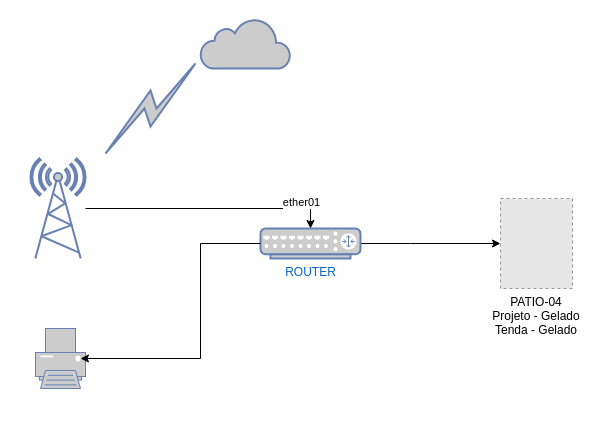
The diagram is 598 pixels wide and 441 high, and some of its shapes have lost their labels. Grey dashed boxes stand in for pictures. Here are the shapes that lost their labels. From the top down, the centre of each, then its label:
[57,208]: LINK COELHO
[60,358]: IMPRESSORA ADM
